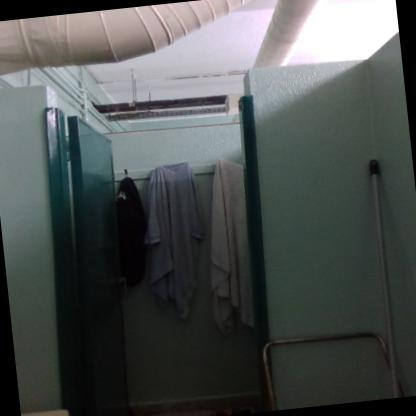open: (38, 68, 291, 415)
